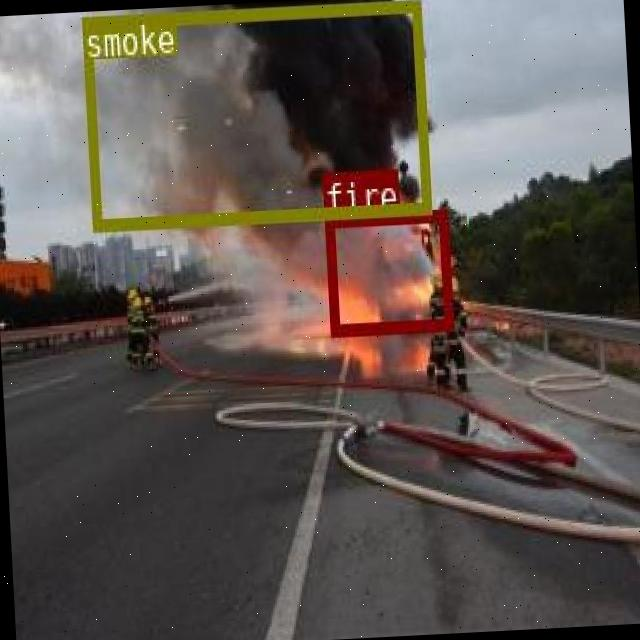fire: (324, 210, 452, 336)
smoke: (80, 0, 429, 229)
